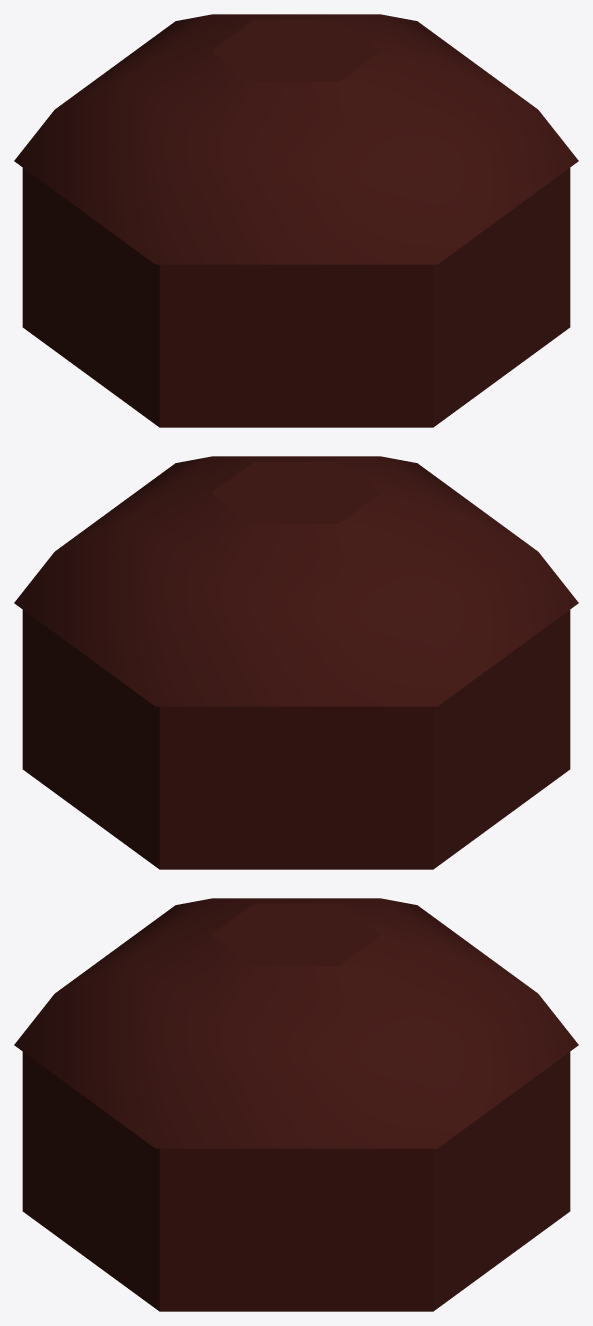
The model's file is bar.fbx.
3 views of the same model, one above another, from view 1: azimuth 30°, elevation 25°; view 2: azimuth 150°, elevation 25°; view 3: azimuth 270°, elevation 25° (orthographic).
Visible parts, largest first — view 1: Cylinder.038, Cylinder.006; view 2: Cylinder.038, Cylinder.006; view 3: Cylinder.038, Cylinder.006.
Part boxes in pixels (left/top/right/bottom): Cylinder.038: left=14, top=14, right=578, bottom=264; Cylinder.006: left=22, top=168, right=570, bottom=427; Cylinder.038: left=14, top=456, right=578, bottom=706; Cylinder.006: left=22, top=610, right=570, bottom=869; Cylinder.038: left=14, top=898, right=578, bottom=1148; Cylinder.006: left=22, top=1052, right=570, bottom=1311.
Size of the model in its own units: 17459 by 15120 by 9423.
